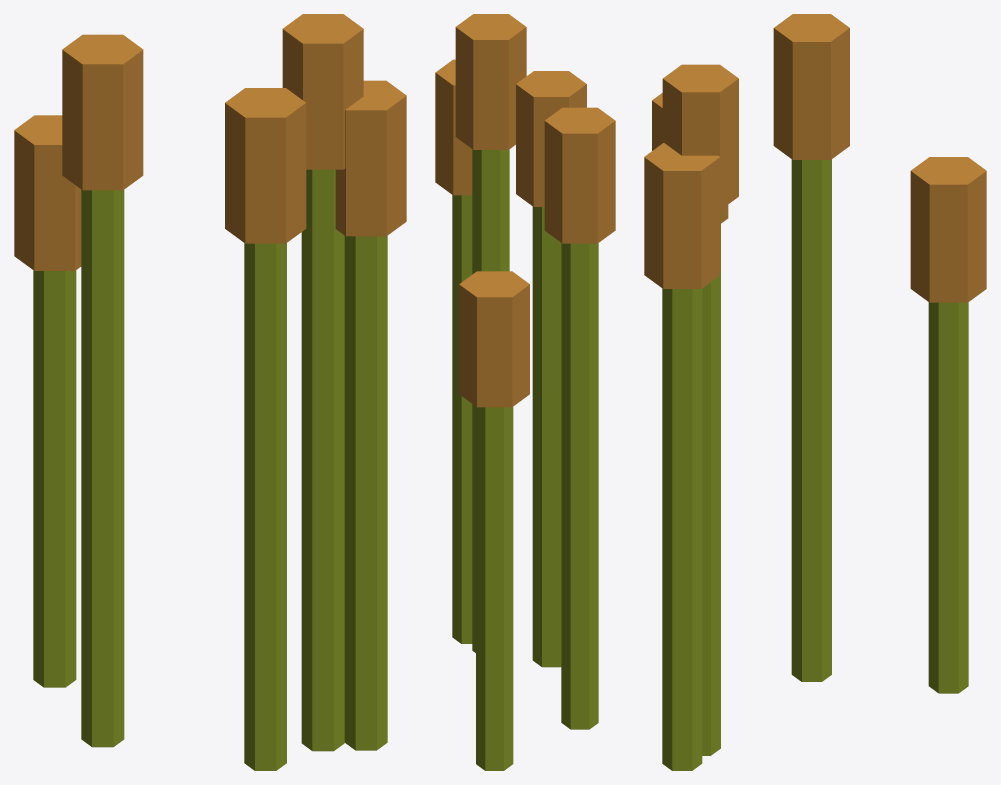
Rendered from prop_reeds.glb.
3 renders of one model, left to right at view 1: azimuth 30°, elevation 25°; view 2: azimuth 150°, elevation 25°; view 3: azimuth 270°, elevation 25°, orthographic. The views are drawn at different scales.
Parts seen in each view (by area): view 1: rds_stalk2, rds_stalk4, rds_stalk0, rds_stalk3, rds_stalk1, rds_head4, rds_head0, rds_head3, rds_head2, rds_head1; view 2: rds_stalk4, rds_stalk1, rds_stalk0, rds_head4, rds_head1, rds_head2, rds_stalk3, rds_stalk2, rds_head0, rds_head3; view 3: rds_stalk4, rds_stalk3, rds_stalk1, rds_head1, rds_head4, rds_head3, rds_stalk2, rds_head2, rds_head0.
Boxes of the visible parts, box(x1,y1,x2,y2) form: rds_stalk2: box(301, 169, 344, 751); rds_stalk4: box(81, 190, 124, 747); rds_stalk0: box(244, 243, 286, 770); rds_stalk3: box(344, 236, 387, 750); rds_stalk1: box(33, 270, 76, 687); rds_head4: box(62, 34, 143, 190); rds_head0: box(225, 88, 306, 243); rds_head3: box(335, 80, 406, 236); rds_head2: box(282, 14, 363, 169); rds_head1: box(14, 115, 81, 270); rds_stalk4: box(561, 243, 598, 729); rds_stalk1: box(476, 407, 513, 770); rds_stalk0: box(532, 206, 561, 667); rds_head4: box(544, 107, 615, 243); rds_head1: box(459, 271, 529, 407); rds_head2: box(455, 14, 526, 149); rds_stalk3: box(452, 195, 472, 643); rds_stalk2: box(472, 149, 509, 652); rds_head0: box(516, 71, 586, 206); rds_head3: box(435, 59, 472, 195); rds_stalk4: box(791, 159, 831, 681); rds_stalk3: box(662, 288, 702, 770); rds_stalk1: box(928, 302, 968, 693); rds_head1: box(910, 157, 986, 302); rds_head4: box(773, 14, 849, 159); rds_head3: box(644, 143, 720, 288); rds_stalk2: box(702, 210, 720, 755); rds_head2: box(662, 64, 738, 209); rds_head0: box(652, 93, 728, 223).
Size of the model in its own units: 0.2756 by 0.7375 by 0.3419.
